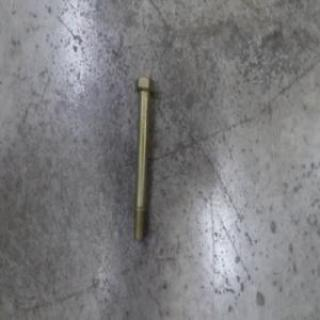Bolttrack_idkeyframe: (132, 71, 156, 247)
